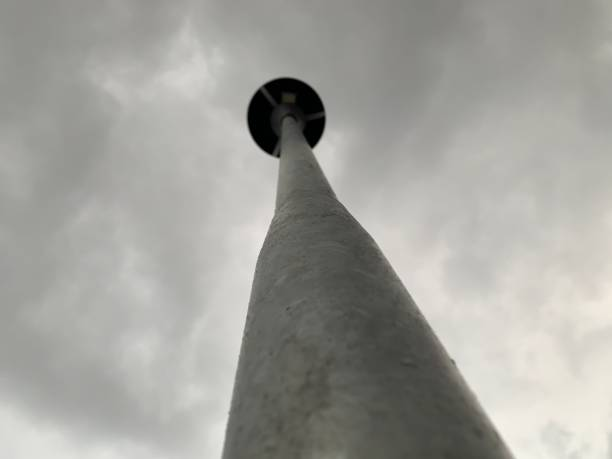light_pole: (225, 124, 519, 459)
